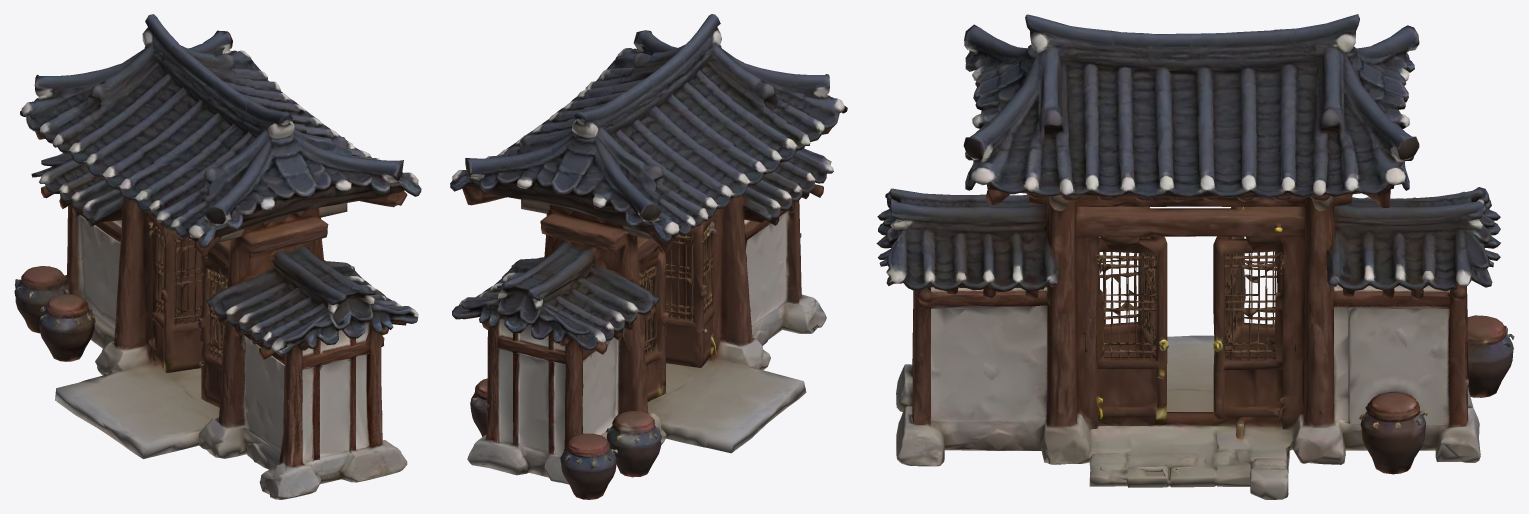
The model's file is webtoon_hanok_courtyard_gate.glb.
3 renders of one model, left to right at view 1: azimuth 30°, elevation 25°; view 2: azimuth 150°, elevation 25°; view 3: azimuth 270°, elevation 25°, orthographic. The views are drawn at different scales.
Visible parts, largest first — view 1: webtoon_hanok_courtyard_gate_mesh_00; view 2: webtoon_hanok_courtyard_gate_mesh_00; view 3: webtoon_hanok_courtyard_gate_mesh_00.
Part boxes in pixels (x1,y1,x2,y2): webtoon_hanok_courtyard_gate_mesh_00: (14, 14, 421, 499); webtoon_hanok_courtyard_gate_mesh_00: (450, 14, 847, 499); webtoon_hanok_courtyard_gate_mesh_00: (876, 14, 1514, 499).
Bounding box in the file's own units: 3.27 × 4.2 × 5.91.
1 material, 1 textured.
